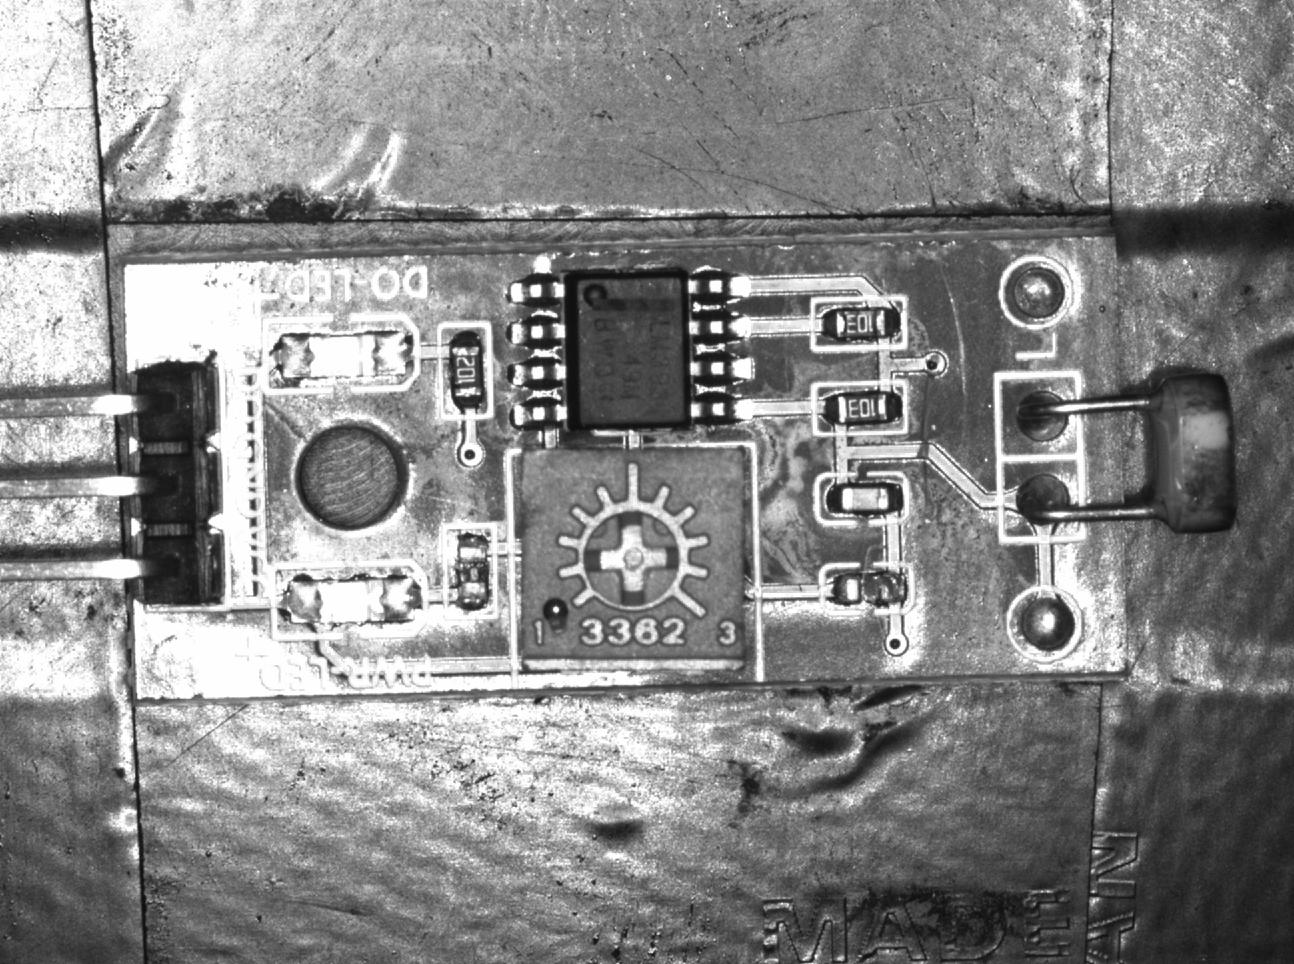miss: (440, 524, 499, 621), (823, 563, 914, 611)
ok: (809, 295, 909, 353), (811, 379, 906, 439), (436, 320, 494, 415), (815, 475, 909, 526)
